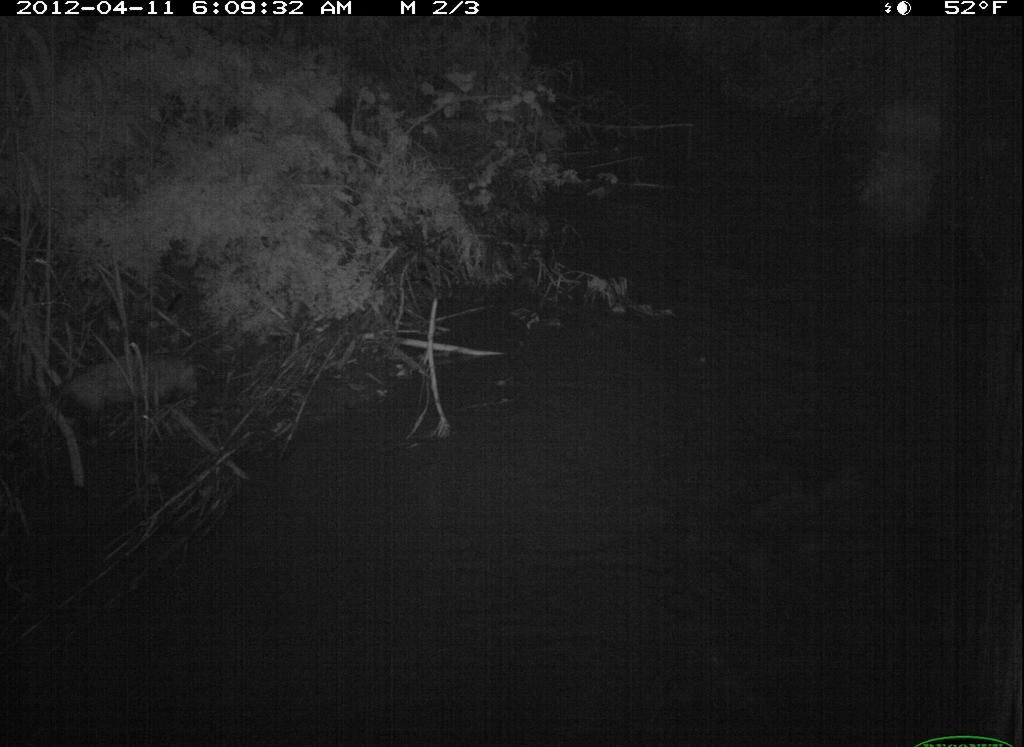opossum: (45, 344, 217, 441)
